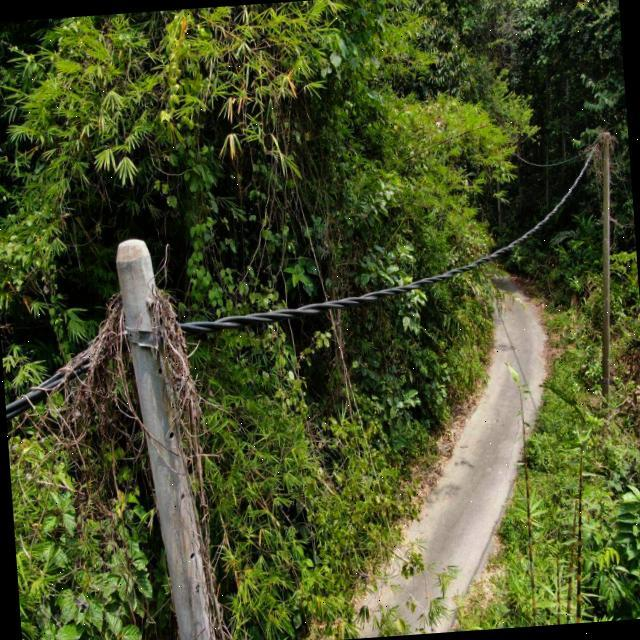critical vegetation: (15, 229, 228, 640)
